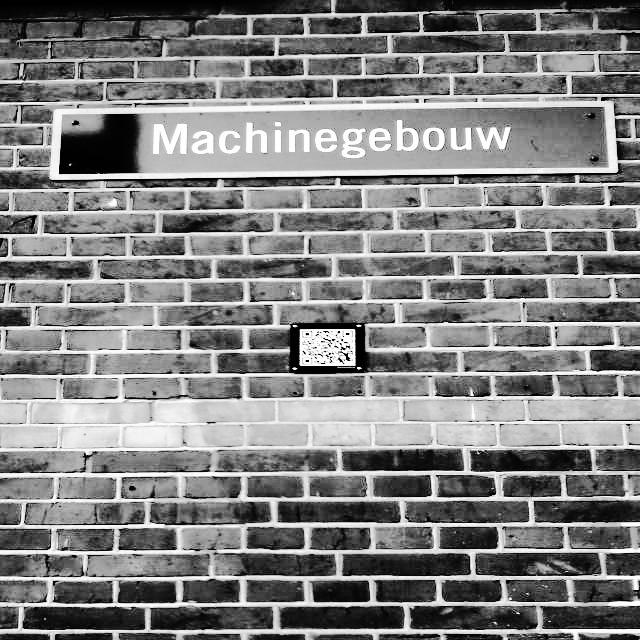qr_code: (302, 331, 353, 365)
